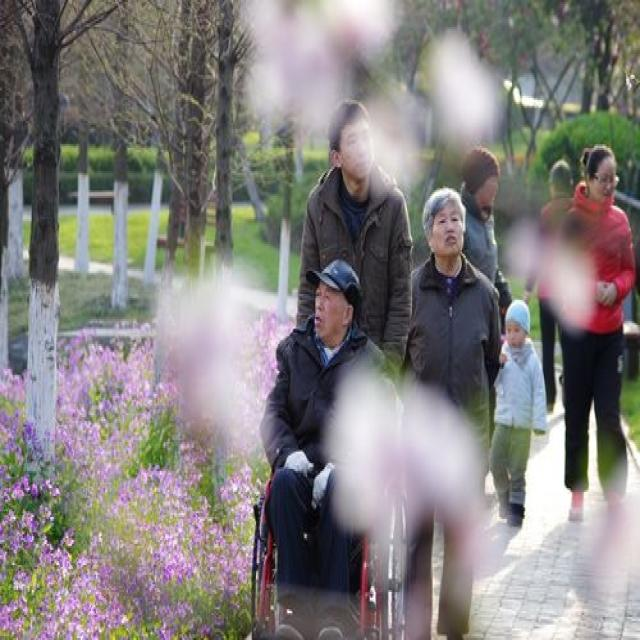wheelchairs: (234, 415, 416, 640)
